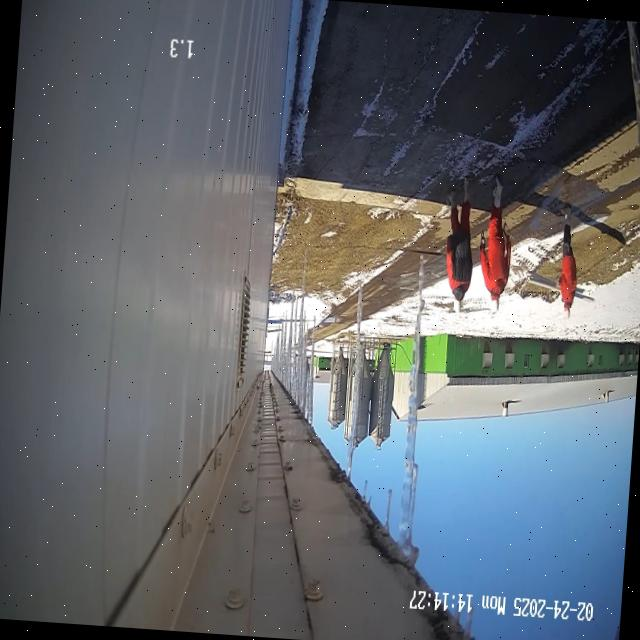Red uniform: (479, 175, 511, 310), (446, 178, 472, 302), (557, 209, 576, 318)
